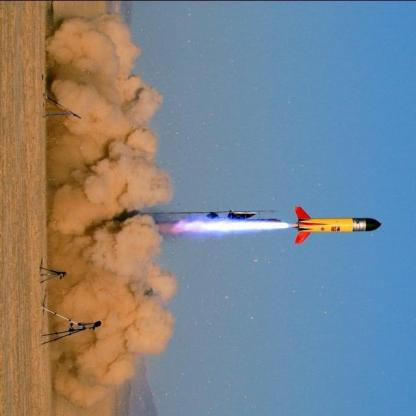MIL_TBM: (294, 205, 383, 243)
